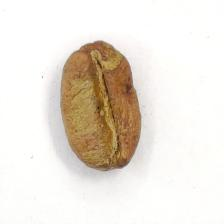NG: (62, 40, 135, 166)
